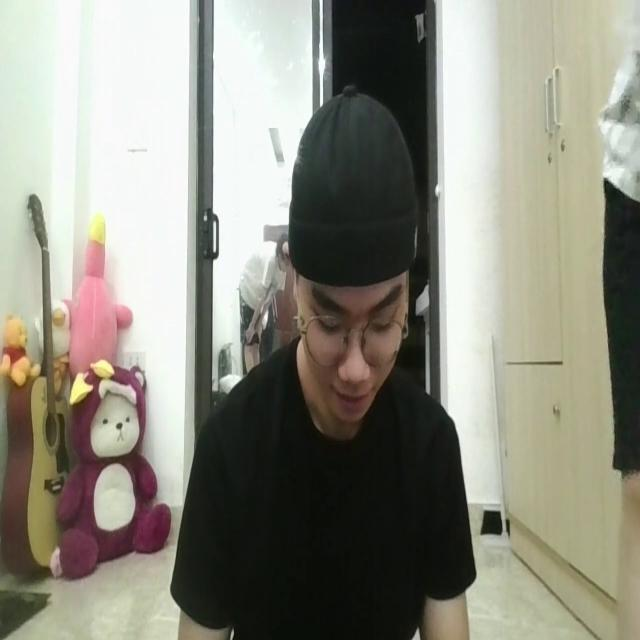student: (168, 80, 474, 640)
